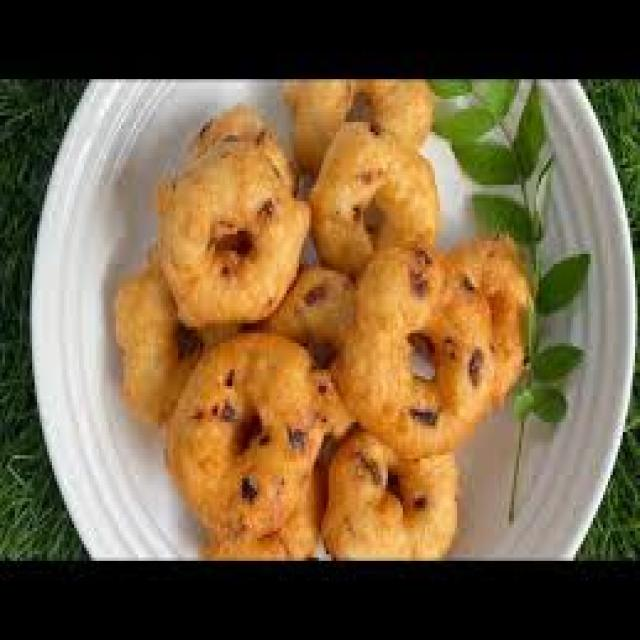MEDU VADA: (334, 247, 499, 455), (158, 106, 309, 323), (168, 333, 324, 538), (309, 122, 437, 271), (321, 429, 455, 554)
